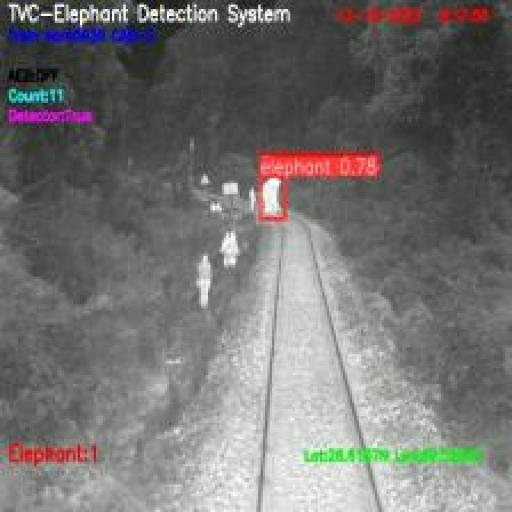Elephant: (260, 176, 286, 219)
